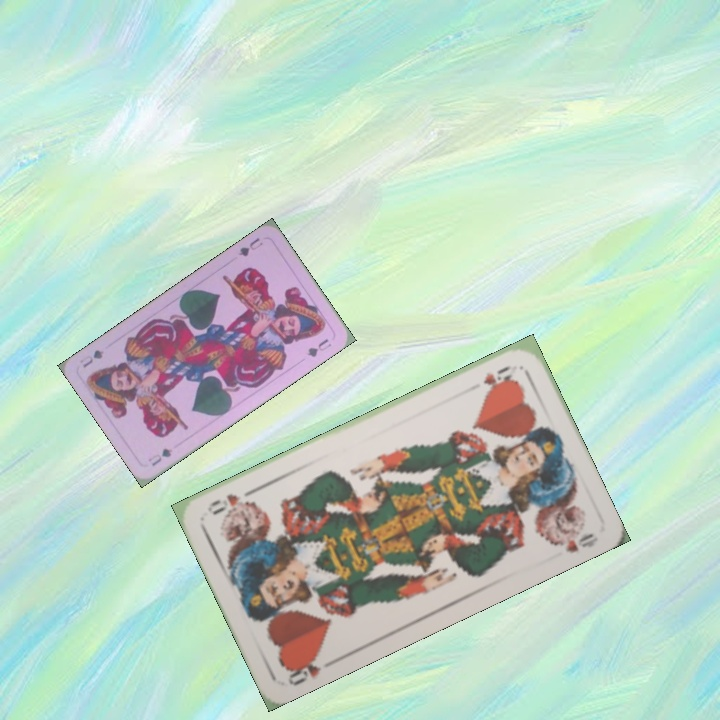GU: (234, 233, 266, 259), (144, 444, 175, 469)
HO: (281, 648, 324, 689), (479, 361, 516, 392)
